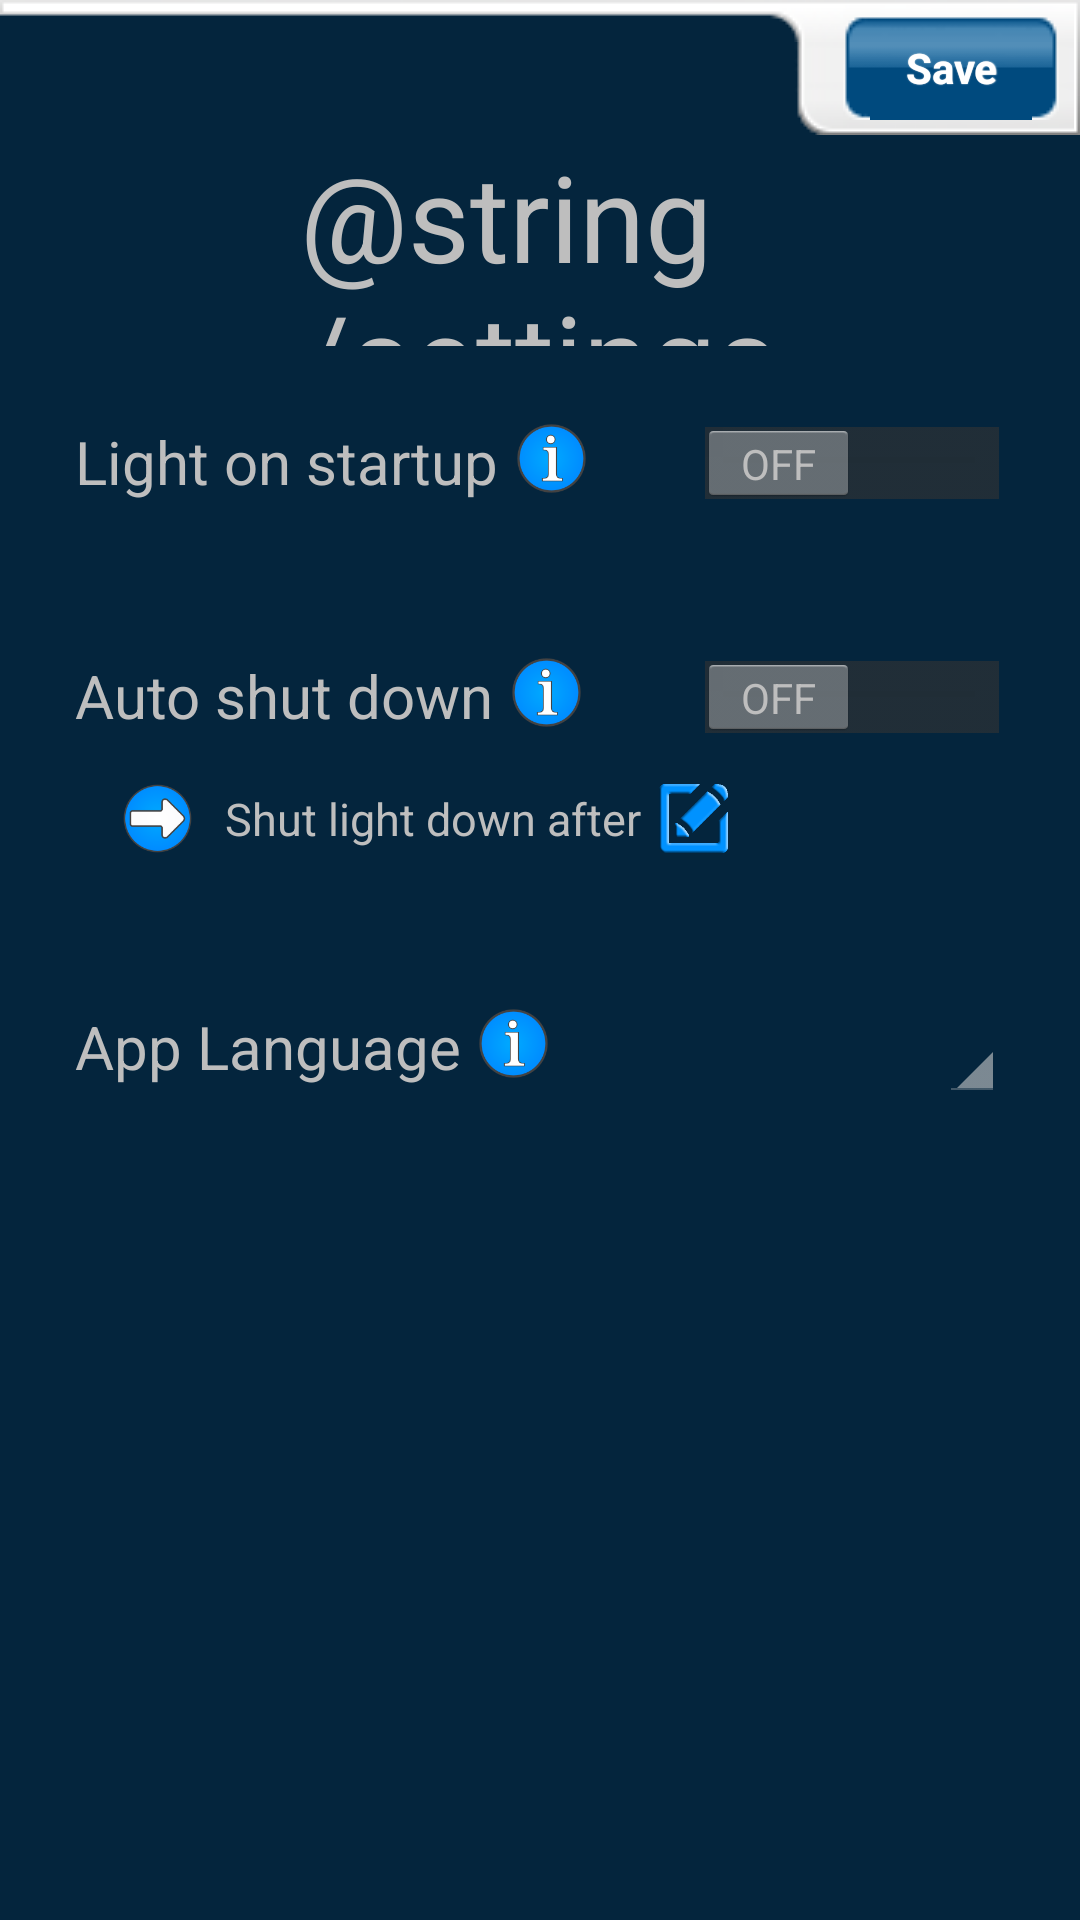

Where icons sit on this 1080px×1920px app screen, as bbox=[x1, y1, x2, y2]:
edit: bbox=[660, 784, 728, 853]
info sign: bbox=[517, 424, 586, 493], bbox=[512, 658, 581, 727], bbox=[479, 1009, 548, 1078]
suboption arrow: bbox=[124, 785, 191, 852]
